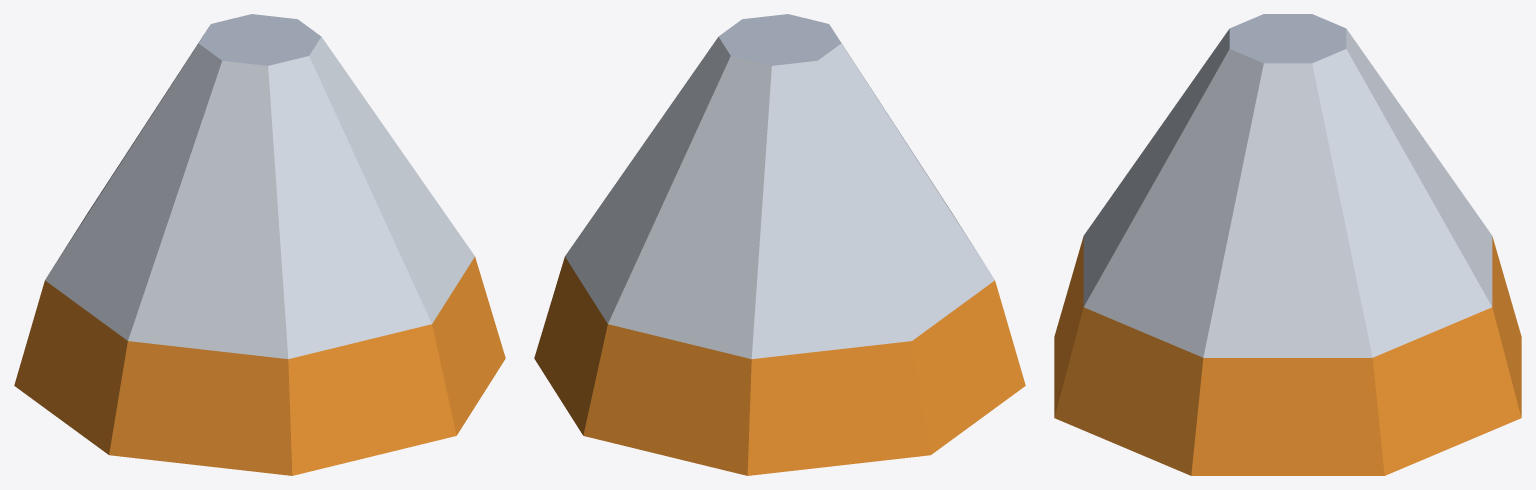
The model's file is cohete_punta.obj.
3 renders of one model, left to right at view 1: azimuth 30°, elevation 25°; view 2: azimuth 150°, elevation 25°; view 3: azimuth 270°, elevation 25°, orthographic.
Visible parts, largest first — view 1: cohete_punta; view 2: cohete_punta; view 3: cohete_punta.
Part boxes in pixels (x1,y1,x2,y2): cohete_punta: [14, 14, 505, 475]; cohete_punta: [534, 14, 1025, 475]; cohete_punta: [1054, 14, 1521, 475].
Size of the model in its own units: 1 by 0.8 by 1.
